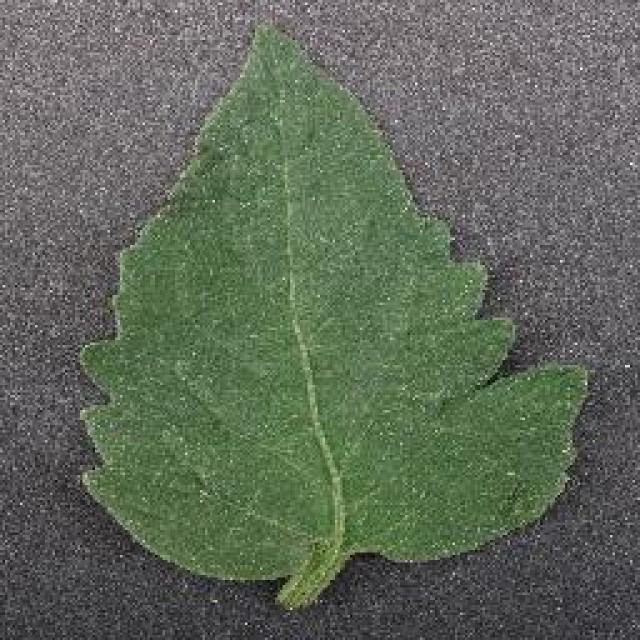healthy: (79, 18, 588, 604)
